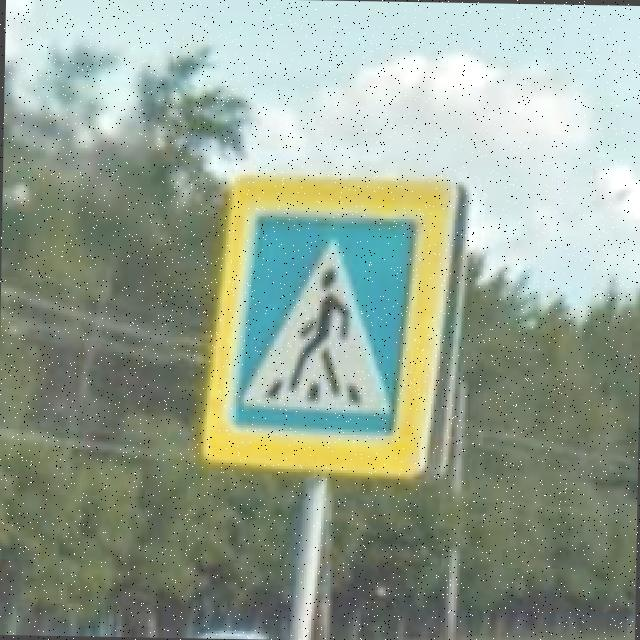Przejscie dla pieszych: (195, 166, 466, 485)
